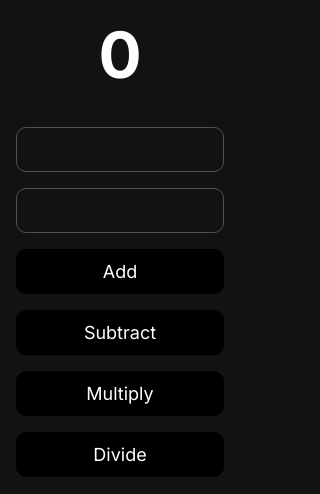
Test: Calculator › should divide numbers
The width and height of the screenshot is (320, 494).
In the number field with test id "num1": point(120, 150) [16, 127, 224, 172], type "2"
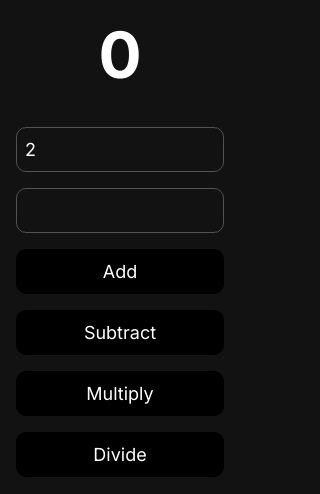
In the number field with test id "num2": point(120, 210) [16, 188, 224, 233], type "2"
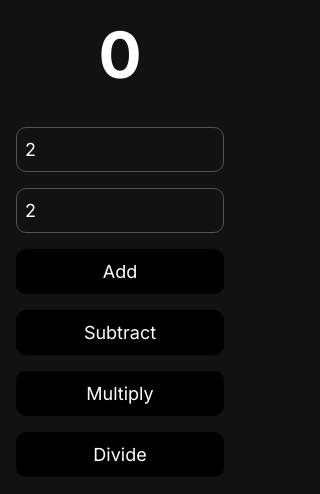
Click the button with test id "divide": point(120, 454) [16, 432, 224, 477]
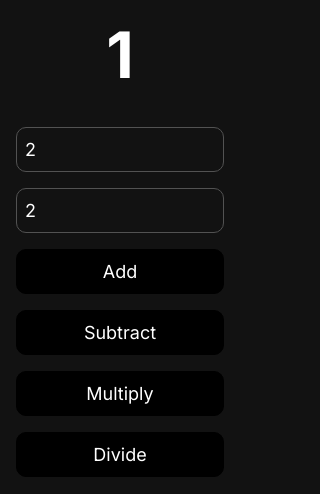
Now the text with test id "result" reads "1", box [106, 16, 134, 93]
